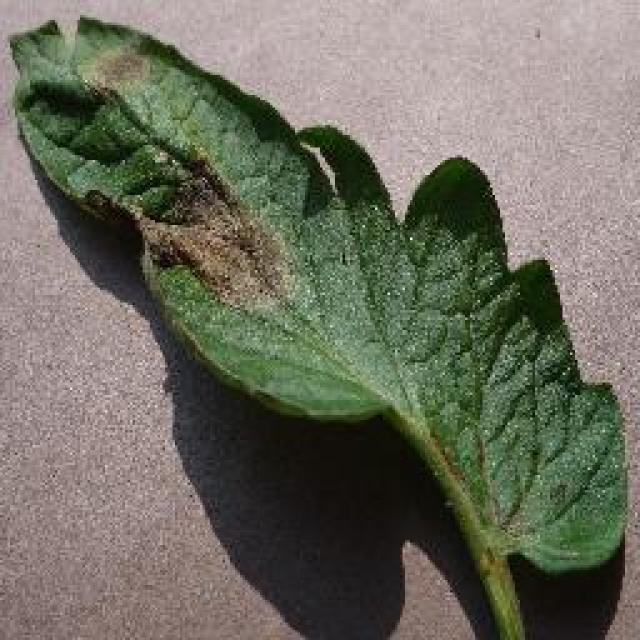Tomato Late Blight: (60, 20, 433, 430)
